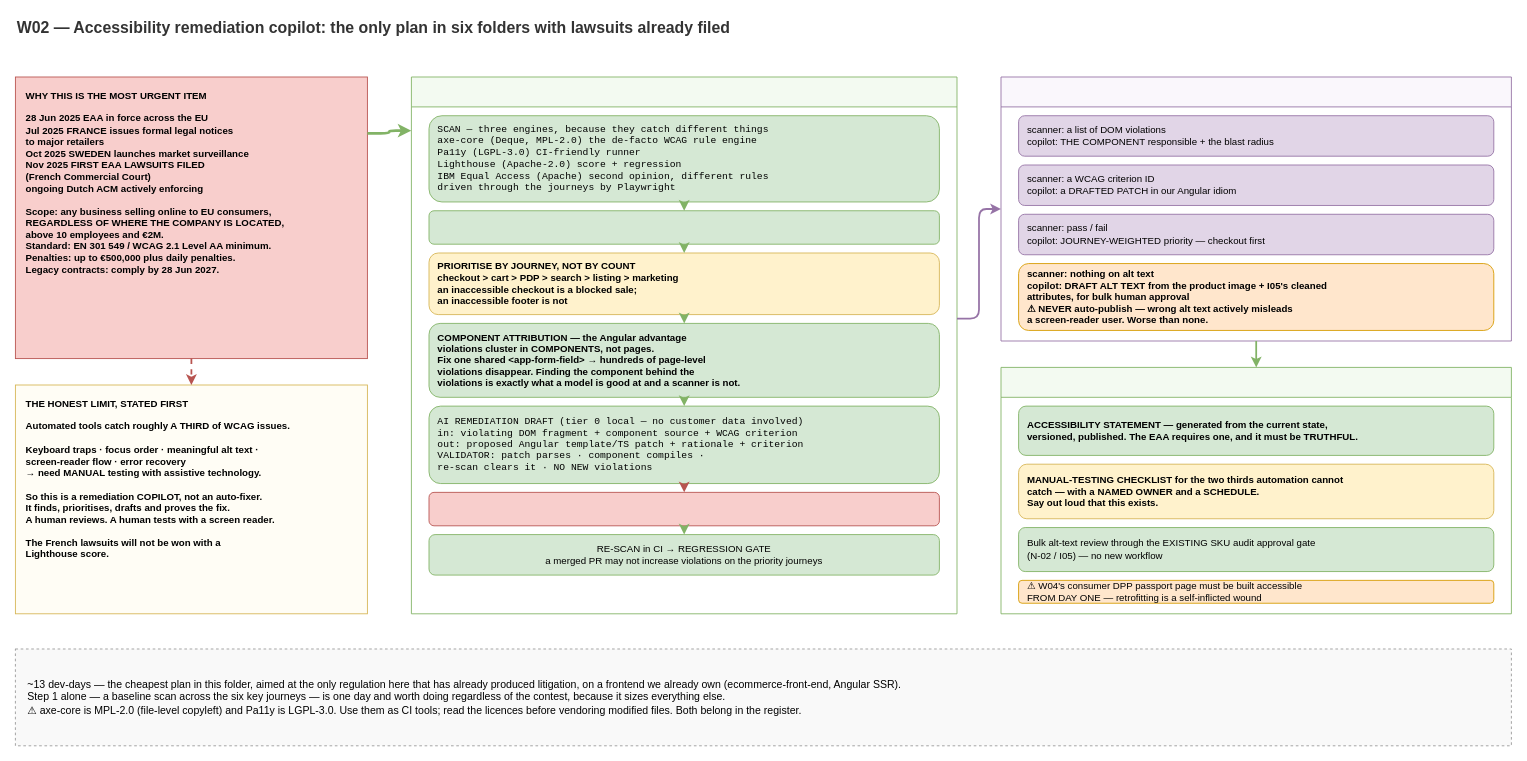
Image size: 1527x761. Some labels were removed from this diagram. Each missing label, with the box of its shape:
CI pipeline (Harness, already live at :3080): (411, 76, 957, 614)
DEDUPE + MAP to WCAG 2.1 AA criteria and EN 301 549 clauses: (428, 210, 939, 244)
DEVELOPER REVIEW — always. DRAFT PR, NEVER AUTO-MERGE.: (428, 491, 939, 526)
Outputs: (1000, 367, 1511, 614)
What the AI adds over a plain scanner: (1000, 76, 1511, 341)
